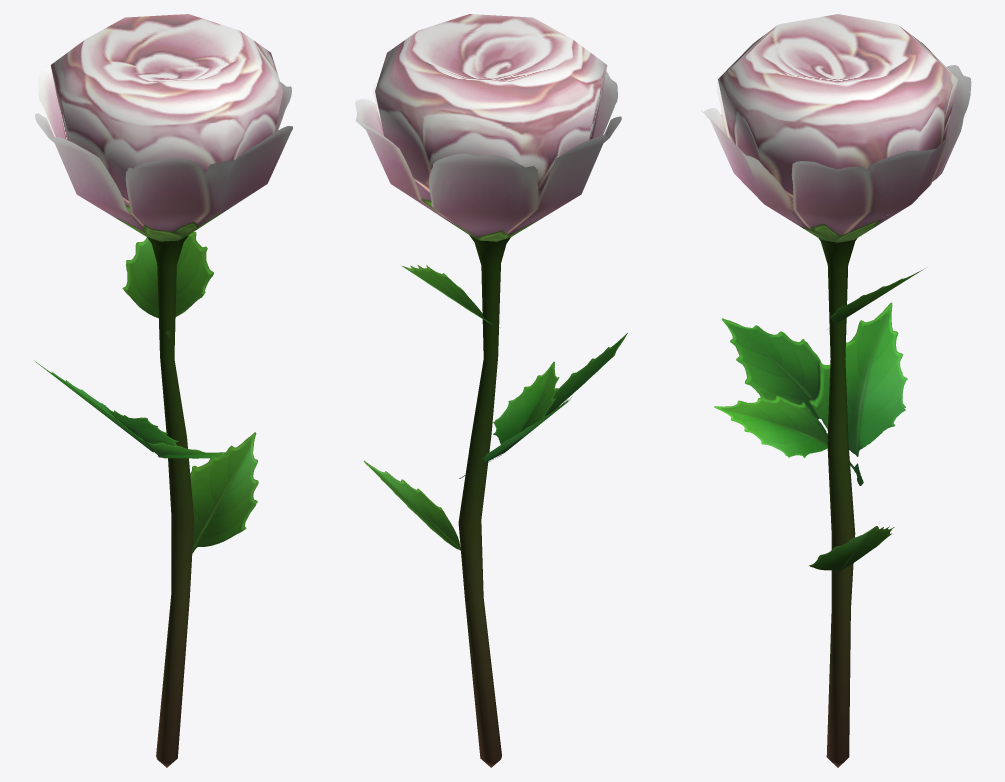
The model's file is SE_Rose_03.fbx.
3 renders of one model, left to right at view 1: azimuth 30°, elevation 25°; view 2: azimuth 150°, elevation 25°; view 3: azimuth 270°, elevation 25°, orthographic.
Visible parts, largest first — view 1: SE_Rose_03; view 2: SE_Rose_03; view 3: SE_Rose_03.
Boxes of the visible parts, left/top/right/bottom form: SE_Rose_03: left=34, top=14, right=292, bottom=767; SE_Rose_03: left=355, top=14, right=627, bottom=767; SE_Rose_03: left=701, top=14, right=971, bottom=767.
Bounding box in the file's own units: 0.8535 × 2.21 × 0.8535.
